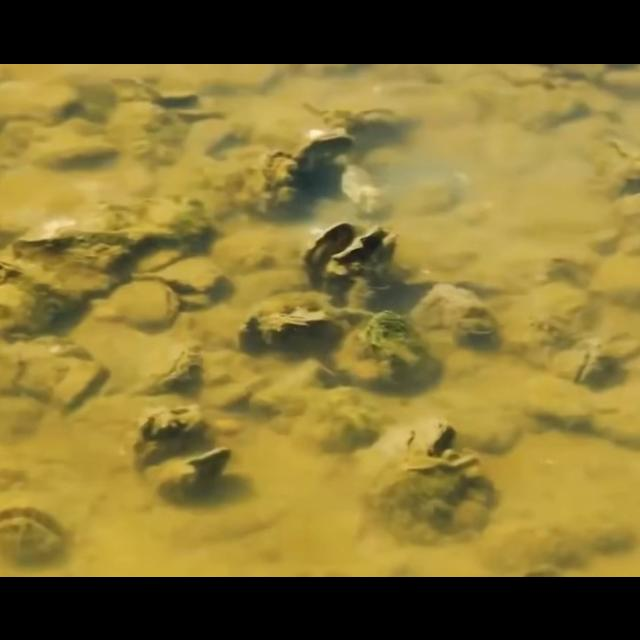Oyster-Closed: (372, 452, 496, 534), (336, 308, 436, 394), (0, 241, 116, 299), (412, 280, 498, 346), (240, 293, 336, 349), (130, 403, 206, 469), (106, 277, 182, 333), (256, 150, 306, 213), (553, 336, 609, 392), (150, 342, 204, 396)
Oyster-Open: (359, 414, 457, 476), (326, 225, 400, 301), (134, 257, 226, 309), (0, 502, 70, 568), (154, 446, 232, 504), (304, 219, 356, 295), (298, 129, 357, 193)
